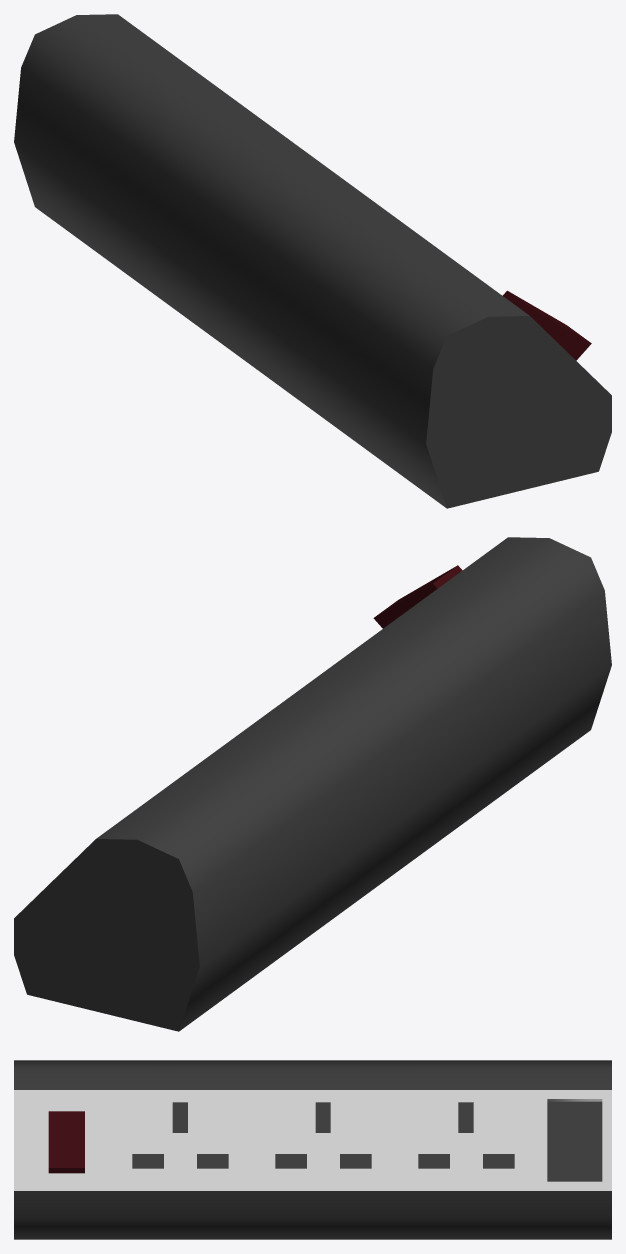
The model's file is Desk_PowerSocket.fbx.
3 renders of one model, top to bottom at view 1: azimuth 30°, elevation 25°; view 2: azimuth 150°, elevation 25°; view 3: azimuth 270°, elevation 25°, orthographic. The views are drawn at different scales.
Visible parts, largest first — view 1: Desk_PowerSocket; view 2: Desk_PowerSocket; view 3: Desk_PowerSocket.
Part boxes in pixels (<box>): Desk_PowerSocket: <box>14,14,611,508</box>; Desk_PowerSocket: <box>14,537,611,1031</box>; Desk_PowerSocket: <box>14,1060,611,1239</box>.
Bounding box in the file's own units: 0.1472 × 0.1348 × 0.5539.
